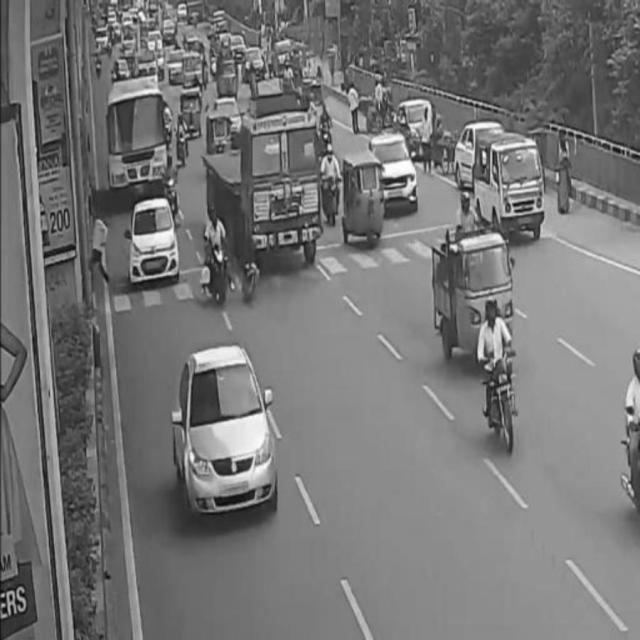person: (556, 142, 576, 215)
vehicle: (175, 350, 278, 522), (240, 109, 323, 267), (432, 228, 513, 344), (475, 137, 542, 228), (478, 296, 519, 444), (107, 87, 168, 183), (133, 197, 178, 285), (367, 139, 419, 212), (347, 151, 384, 245), (203, 199, 229, 297), (321, 143, 341, 233)
